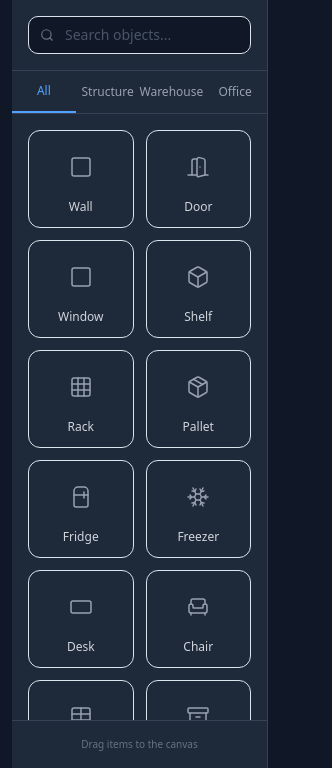
Test: LibraryPanel Component › should filter objects by category when category tab is clicked
Note: Click Structure category
Step 1. Click the button "Structure" → [108, 92], box [76,71,140,113]
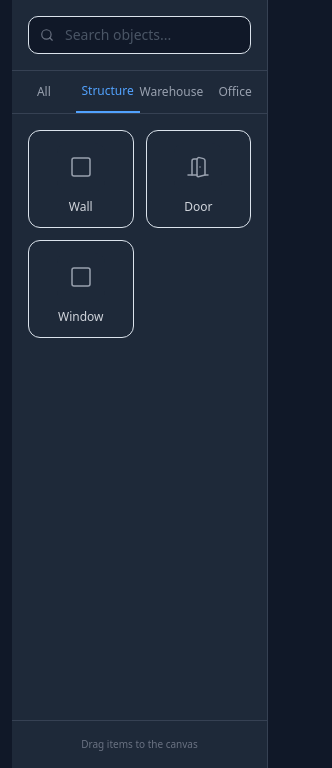
Expected: the text "Wall" is shown, [69,199,93,215]
Now the button "Shelf" is gone
Now the button "Desk" is gone
